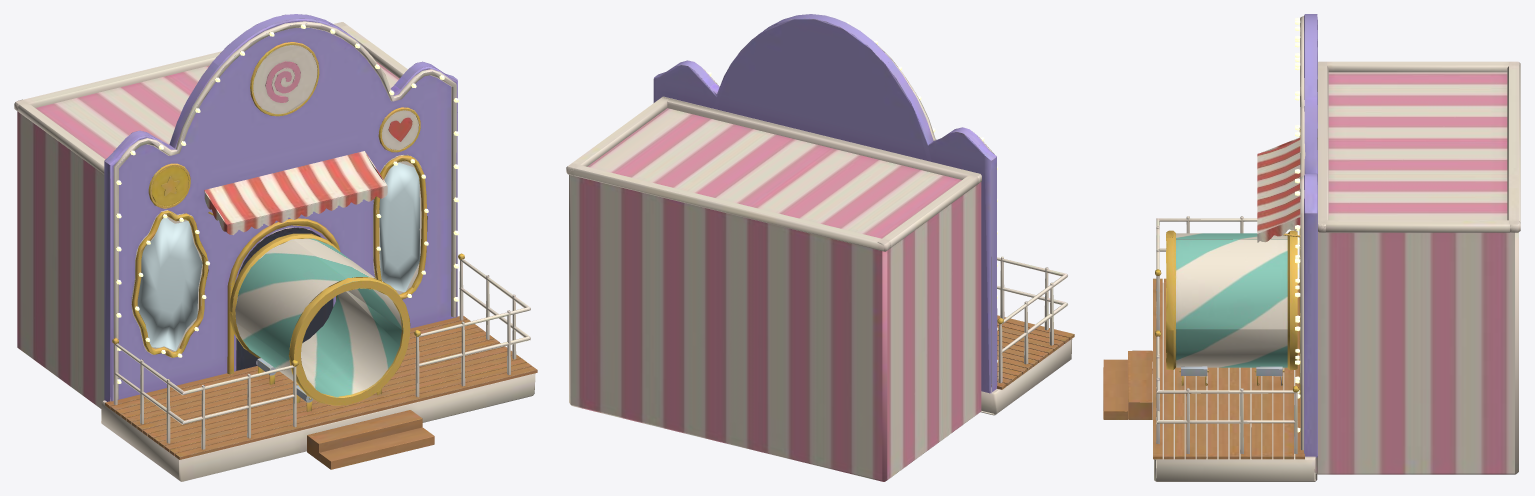
The model's file is casa_risa.glb.
3 renders of one model, left to right at view 1: azimuth 30°, elevation 25°; view 2: azimuth 150°, elevation 25°; view 3: azimuth 270°, elevation 25°, orthographic. The views are drawn at different scales.
Visible parts, largest first — view 1: fun-house_barrel; view 2: fun-house_barrel; view 3: fun-house_barrel.
Boxes of the visible parts, x1,y1,x2,y2 form: fun-house_barrel: (14, 14, 537, 481); fun-house_barrel: (566, 14, 1074, 481); fun-house_barrel: (1103, 14, 1520, 481).
Bounding box in the file's own units: 5.13 × 5 × 5.09.
Materials: 4 (2 with a texture image).
